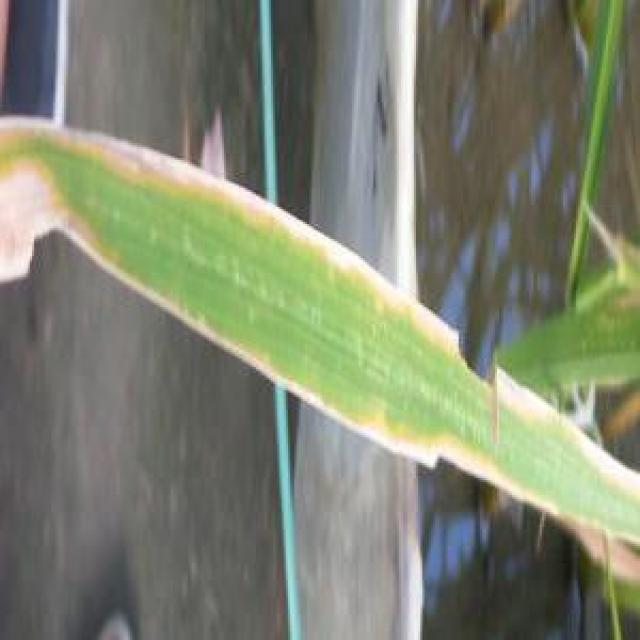leaf blight: (290, 215, 640, 525), (2, 122, 288, 364)
